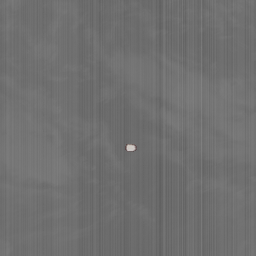Target: (123, 142, 138, 152)
